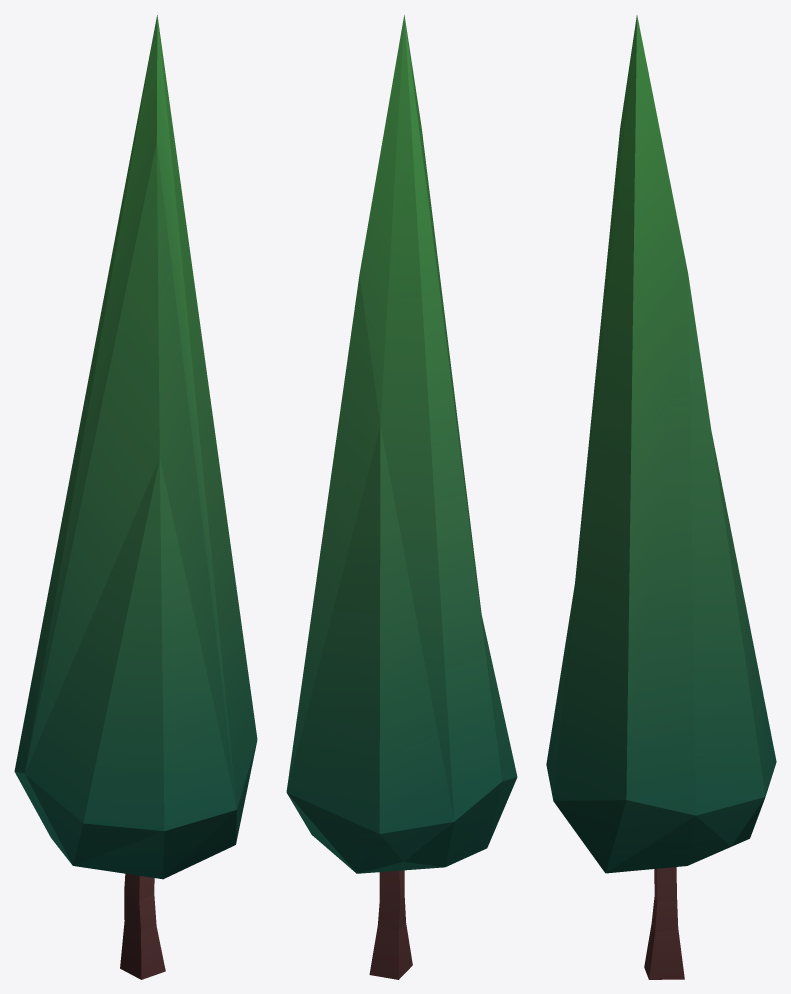
The model's file is Gradient_Tree_Cypress_small.glb.
3 renders of one model, left to right at view 1: azimuth 30°, elevation 25°; view 2: azimuth 150°, elevation 25°; view 3: azimuth 270°, elevation 25°, orthographic. The views are drawn at different scales.
Parts seen in each view (by area): view 1: Cypress small g; view 2: Cypress small g; view 3: Cypress small g.
Boxes of the visible parts, x1,y1,x2,y2 form: Cypress small g: (14,15,257,979); Cypress small g: (286,15,517,979); Cypress small g: (546,15,776,979).
Size of the model in its own units: 2.37 by 10.38 by 2.26.
Materials: 1 (1 with a texture image).
